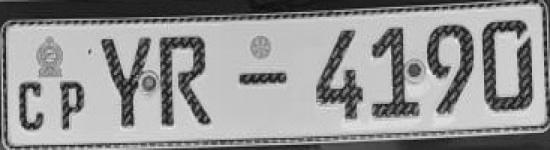-: (232, 65, 292, 93)
0: (477, 13, 537, 120)
1: (368, 23, 425, 124)
4: (306, 25, 367, 125)
9: (426, 21, 476, 124)
C: (12, 74, 49, 134)
P: (55, 76, 96, 136)
R: (157, 31, 215, 132)
Y: (101, 31, 157, 131)
